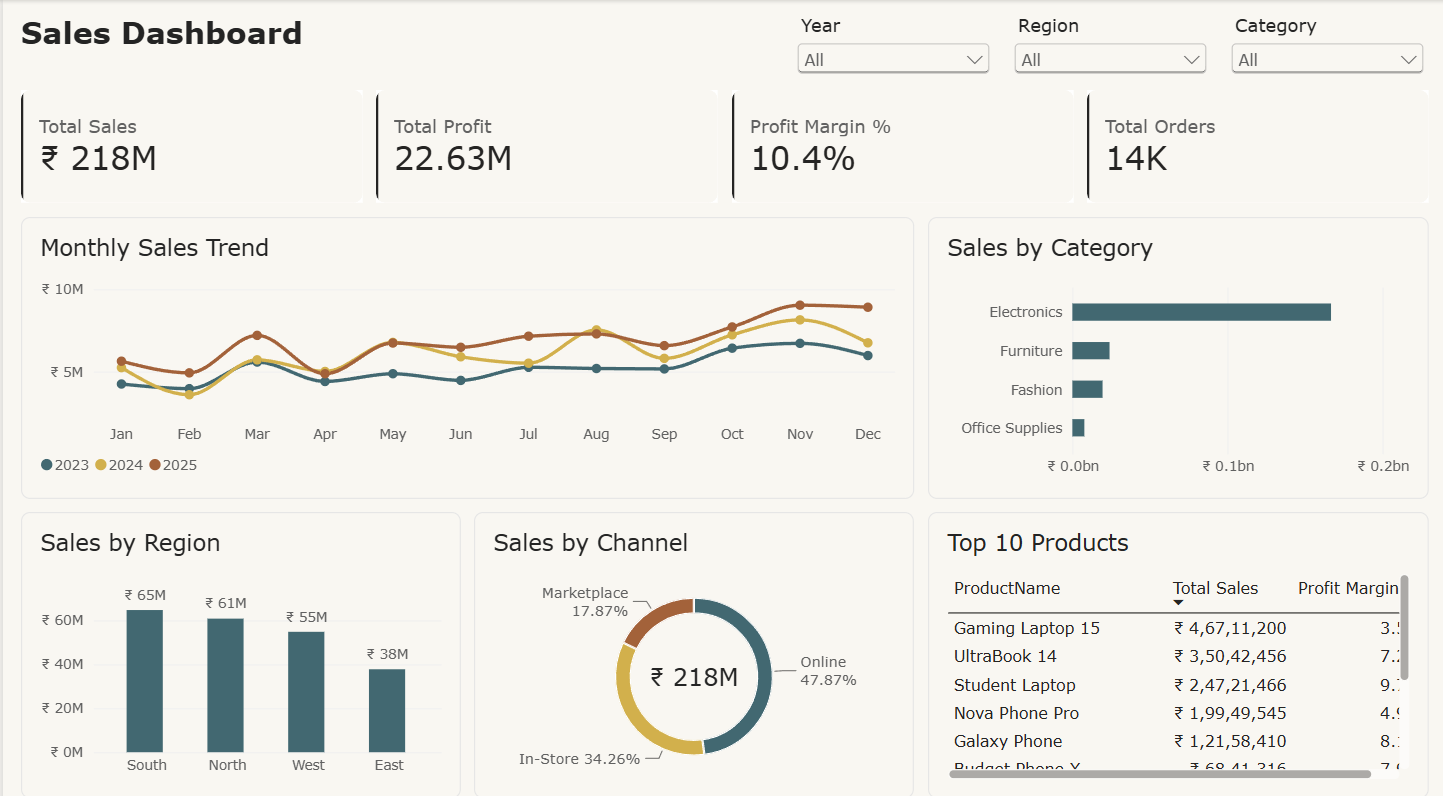

Layout of this report page (visuals, bound fields, positions):
{"tool":"powerbi","page":{"name":"Page 1","canvas":[1280,720],"ordinal":0},"visuals":[{"type":"textbox","box":[16,12,500.8,50],"z":0},{"type":"slicer","fields":{"Values":["dim_date.Year"]},"box":[700,12,180,56],"z":1000},{"type":"cardVisual","fields":{"Data":["_Measures.Total Sales"]},"box":[16,80,303,100],"z":2000},{"type":"lineChart","title":"Monthly Sales Trend","fields":{"Category":["dim_date.Month"],"Series":["dim_date.Year"],"Y":["_Measures.Total Sales"]},"box":[16,192,792,250],"z":2000},{"type":"cardVisual","fields":{"Data":["_Measures.Total Profit"]},"box":[331,80,303,100],"z":3000},{"type":"clusteredBarChart","title":"Sales by Category","fields":{"Category":["dim_product.Category"],"Y":["_Measures.Total Sales"]},"box":[820,192,444,250],"z":3000},{"type":"cardVisual","fields":{"Data":["_Measures.Profit Margin %"]},"box":[646,80,303,100],"z":4000},{"type":"clusteredColumnChart","title":"Sales by Region","fields":{"Category":["dim_region.Region"],"Y":["_Measures.Total Sales"]},"box":[16,454,390,254],"z":4000},{"type":"cardVisual","fields":{"Data":["_Measures.Total Orders"]},"box":[961,80,303,100],"z":5000},{"type":"donutChart","title":"Sales by Channel","fields":{"Category":["fact_sales.Channel"],"Y":["_Measures.Total Sales"]},"box":[418,454,390,254],"z":5000},{"type":"tableEx","title":"Top 10 Products","fields":{"Values":["dim_product.ProductName","_Measures.Total Sales","_Measures.Profit Margin %"]},"box":[820,454,444,254],"z":6000},{"type":"slicer","fields":{"Values":["dim_region.Region"]},"box":[892,12,180,56],"z":7001},{"type":"slicer","fields":{"Values":["dim_product.Category"]},"box":[1084,12,180,56],"z":7002}]}

Visuals, with their boxes in screenshot pixels (x1, y1, x2, y2), scaled from the page's 1280x720 canvas onto the 1443x796 screenshot:
textbox: x1=18, y1=13, x2=583, y2=69
slicer - dim_date.Year: x1=789, y1=13, x2=992, y2=75
cardVisual - _Measures.Total Sales: x1=18, y1=88, x2=360, y2=199
"Monthly Sales Trend" lineChart: x1=18, y1=212, x2=911, y2=489
cardVisual - _Measures.Total Profit: x1=373, y1=88, x2=715, y2=199
"Sales by Category" clusteredBarChart: x1=924, y1=212, x2=1425, y2=489
cardVisual - _Measures.Profit Margin %: x1=728, y1=88, x2=1070, y2=199
"Sales by Region" clusteredColumnChart: x1=18, y1=502, x2=458, y2=783
cardVisual - _Measures.Total Orders: x1=1083, y1=88, x2=1425, y2=199
"Sales by Channel" donutChart: x1=471, y1=502, x2=911, y2=783
"Top 10 Products" tableEx: x1=924, y1=502, x2=1425, y2=783
slicer - dim_region.Region: x1=1006, y1=13, x2=1209, y2=75
slicer - dim_product.Category: x1=1222, y1=13, x2=1425, y2=75
